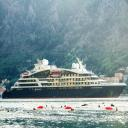cruises: (3, 55, 128, 101)
